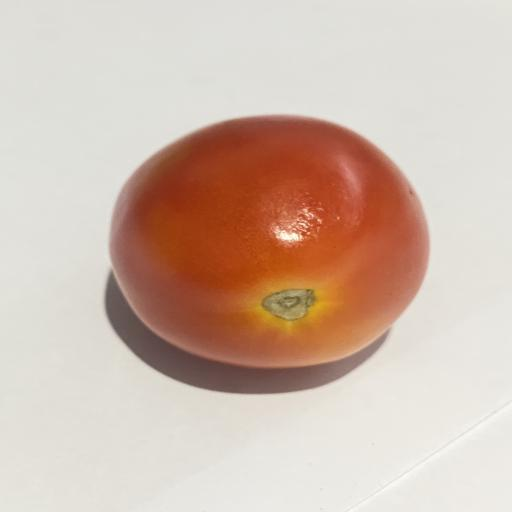ripe: (110, 116, 429, 368)
